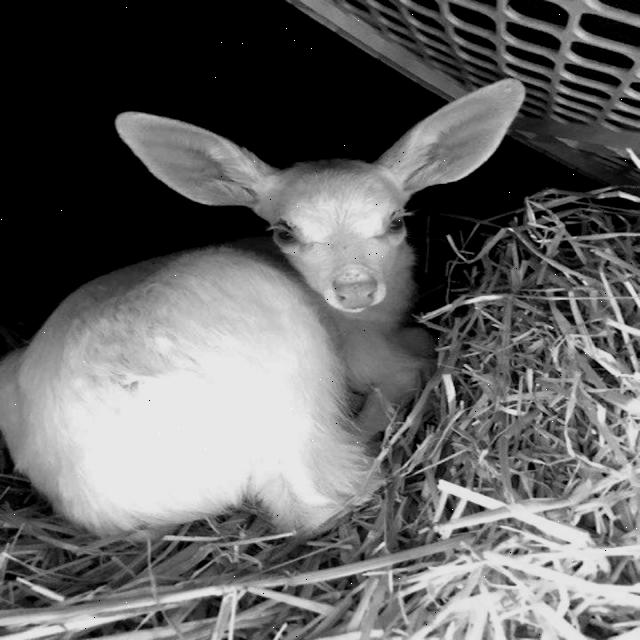deer: (98, 59, 532, 332)
